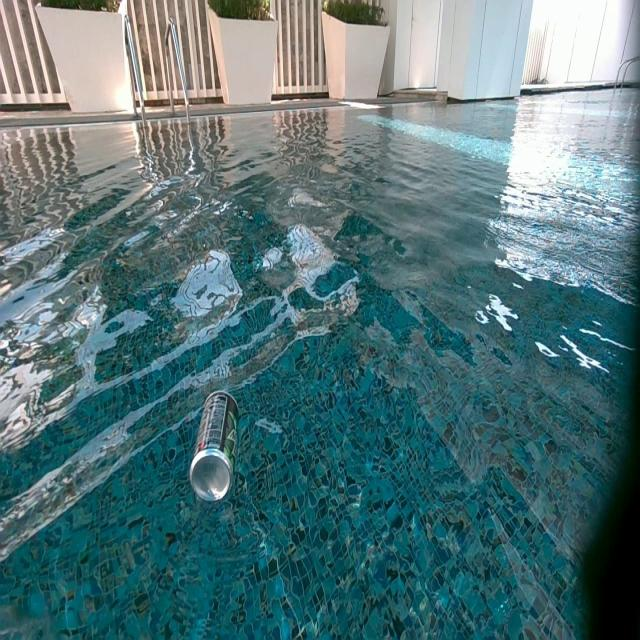Cans: (187, 390, 242, 508)
